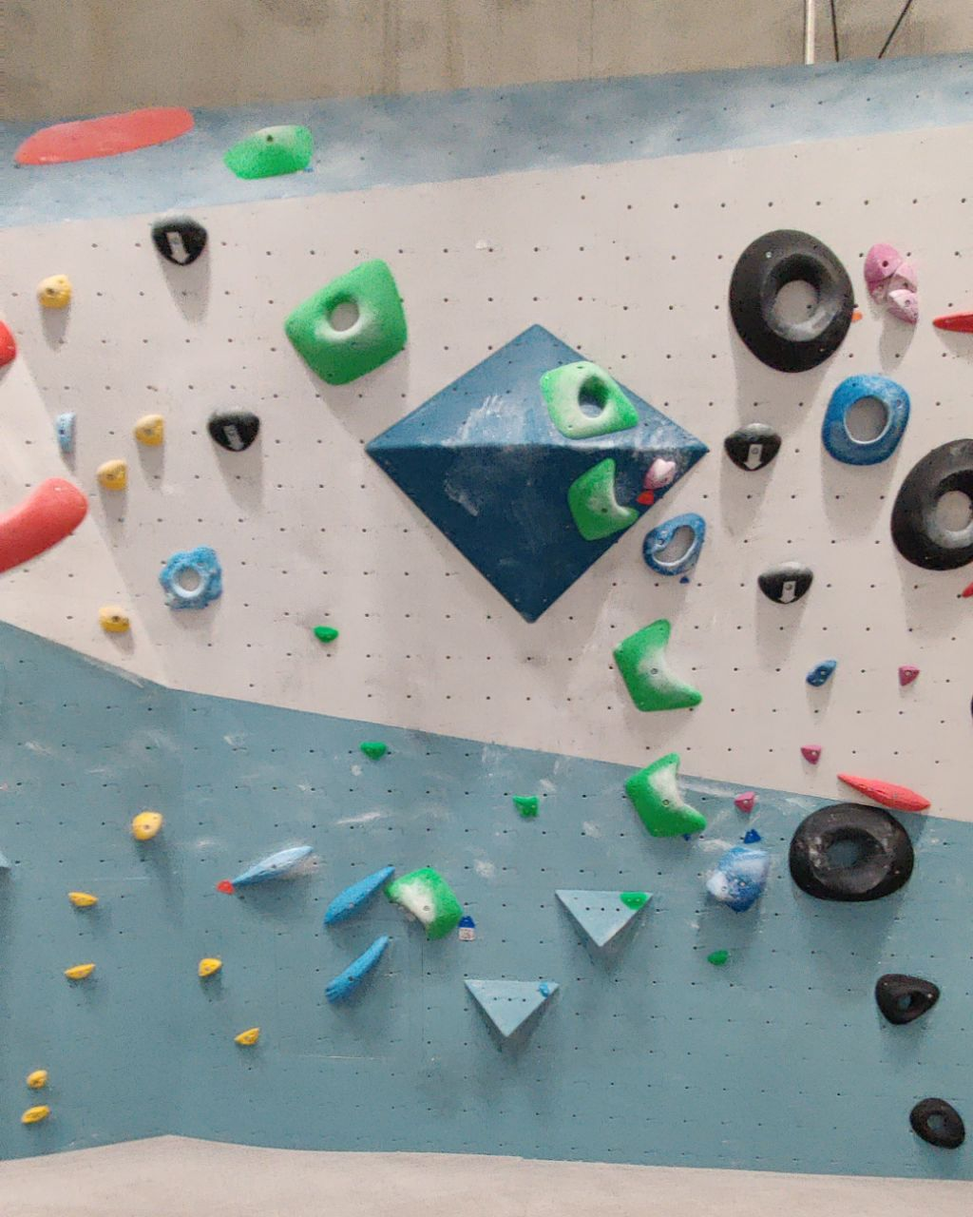hold: (729, 229, 856, 373), (284, 260, 407, 385), (789, 802, 913, 901), (891, 439, 972, 570), (15, 107, 194, 164), (0, 477, 87, 573), (822, 376, 909, 465), (615, 620, 701, 710), (541, 362, 639, 437), (625, 753, 705, 837), (568, 459, 639, 541), (385, 867, 463, 939), (224, 126, 313, 180), (864, 243, 918, 325), (326, 935, 390, 1004), (707, 844, 769, 911), (325, 867, 393, 925), (643, 513, 705, 576), (160, 547, 221, 609), (230, 845, 312, 889), (838, 773, 929, 812), (877, 974, 939, 1025), (151, 215, 207, 266), (909, 1097, 963, 1149), (724, 423, 780, 472), (206, 409, 259, 453), (758, 563, 812, 605), (37, 275, 71, 308), (644, 456, 676, 490), (133, 415, 163, 447), (97, 459, 127, 491), (131, 811, 162, 841), (55, 413, 75, 456), (933, 311, 972, 333), (99, 606, 129, 634), (806, 659, 836, 686), (0, 319, 16, 368), (620, 891, 650, 911), (512, 796, 538, 819), (359, 741, 390, 760), (64, 962, 95, 981), (22, 1105, 49, 1125), (198, 957, 221, 979), (69, 892, 97, 910), (734, 791, 755, 814), (234, 1028, 259, 1047), (27, 1069, 48, 1090), (314, 626, 338, 643), (899, 666, 919, 686), (802, 746, 820, 764), (708, 950, 728, 965), (537, 981, 551, 997), (961, 582, 972, 596)
volume: (364, 322, 714, 625), (554, 889, 659, 975), (461, 977, 562, 1053)
